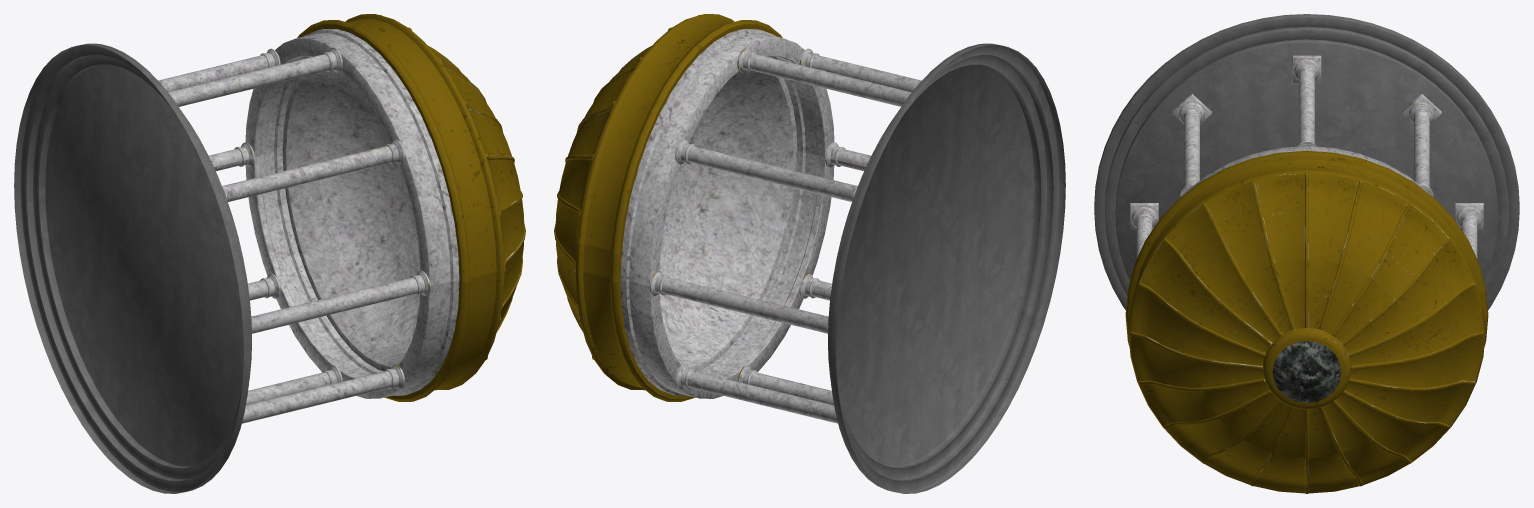
Rendered from cP_PillarDome01.dae.
3 views of the same model, side by side, from view 1: azimuth 30°, elevation 25°; view 2: azimuth 150°, elevation 25°; view 3: azimuth 270°, elevation 25° (orthographic). The views are drawn at different scales.
Visible parts, largest first — view 1: cP_PillarDome01.001; view 2: cP_PillarDome01.001; view 3: cP_PillarDome01.001.
Part boxes in pixels (box(x1,y1,x2,y2)): cP_PillarDome01.001: box(14, 14, 525, 493); cP_PillarDome01.001: box(554, 14, 1065, 493); cP_PillarDome01.001: box(1094, 14, 1519, 493).
Size of the model in its own units: 11.41 by 12 by 12.
